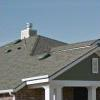Chimney: (16, 15, 39, 43)
